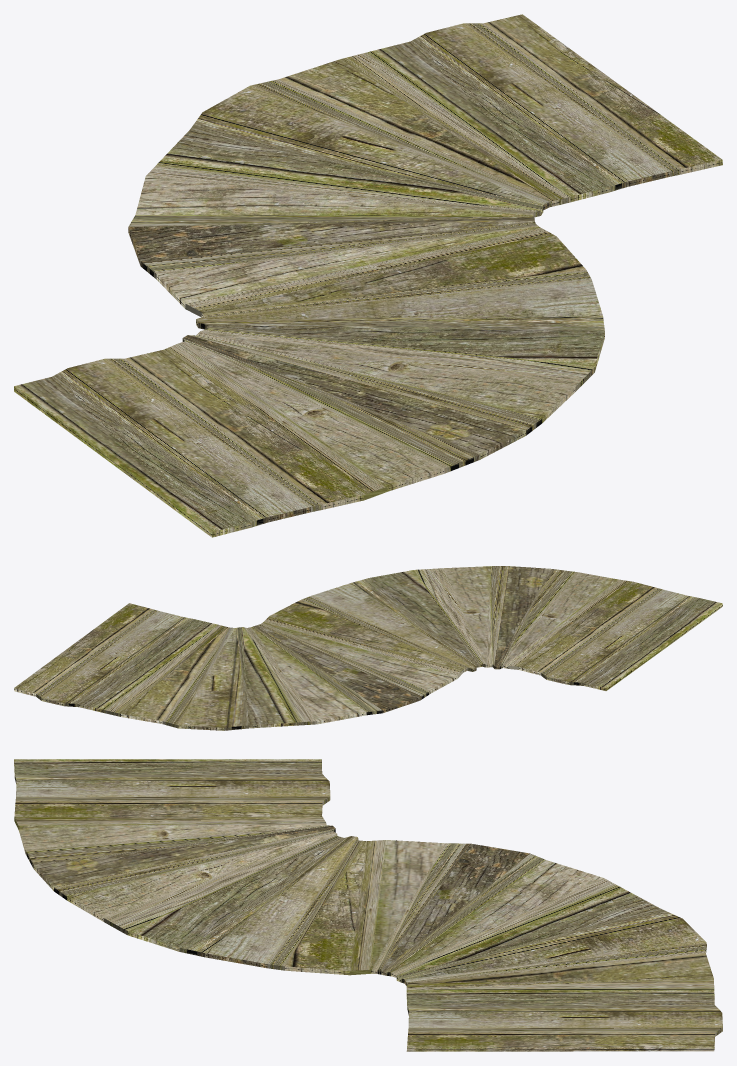
The model's file is Col-Ramp.fbx.
3 renders of one model, top to bottom at view 1: azimuth 30°, elevation 25°; view 2: azimuth 150°, elevation 25°; view 3: azimuth 270°, elevation 25°, orthographic. The views are drawn at different scales.
Visible parts, largest first — view 1: ramp; view 2: ramp; view 3: ramp.
Boxes of the visible parts, x1,y1,x2,y2 form: ramp: (14,14,722,537); ramp: (14,566,722,730); ramp: (14,759,722,1051).
Bounding box in the file's own units: 443 × 3 × 460.
